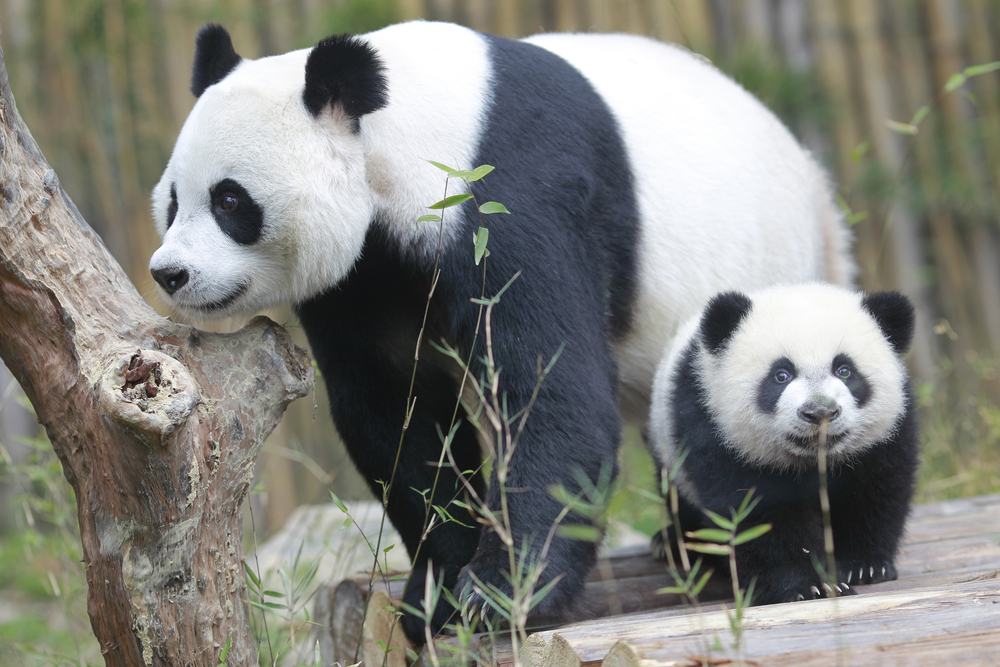panda: (76, 18, 925, 610)
